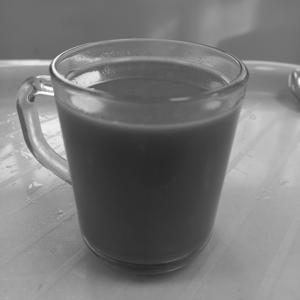coffee: (48, 35, 243, 270)
